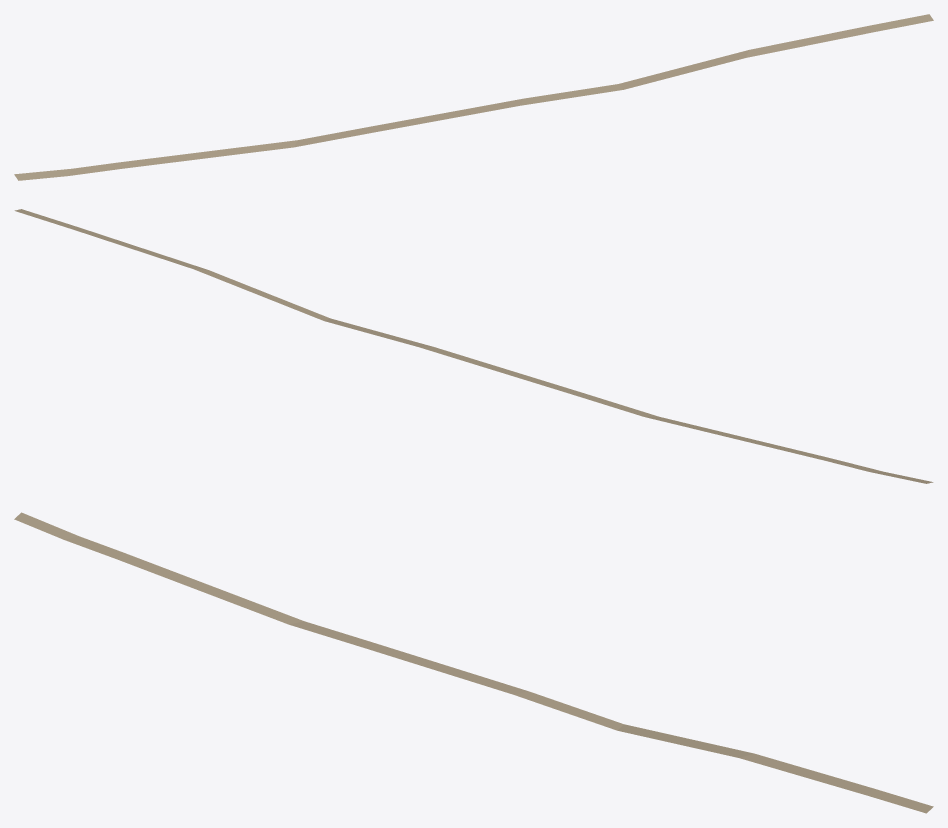
Rendered from farm_-10_11_track.glb.
The picture shows the model from 3 angles, top to bottom: view 1: azimuth 30°, elevation 25°; view 2: azimuth 150°, elevation 25°; view 3: azimuth 330°, elevation 25°; orthographic projection. The views are drawn at different scales.
Parts seen in each view (by area): view 1: geometry_0; view 2: geometry_0; view 3: geometry_0.
Boxes of the visible parts, x1,y1,x2,y2 form: geometry_0: [14, 14, 933, 180]; geometry_0: [14, 209, 933, 483]; geometry_0: [14, 512, 933, 813].
Bounding box in the file's own units: 292 × 7.55 × 35.7.
